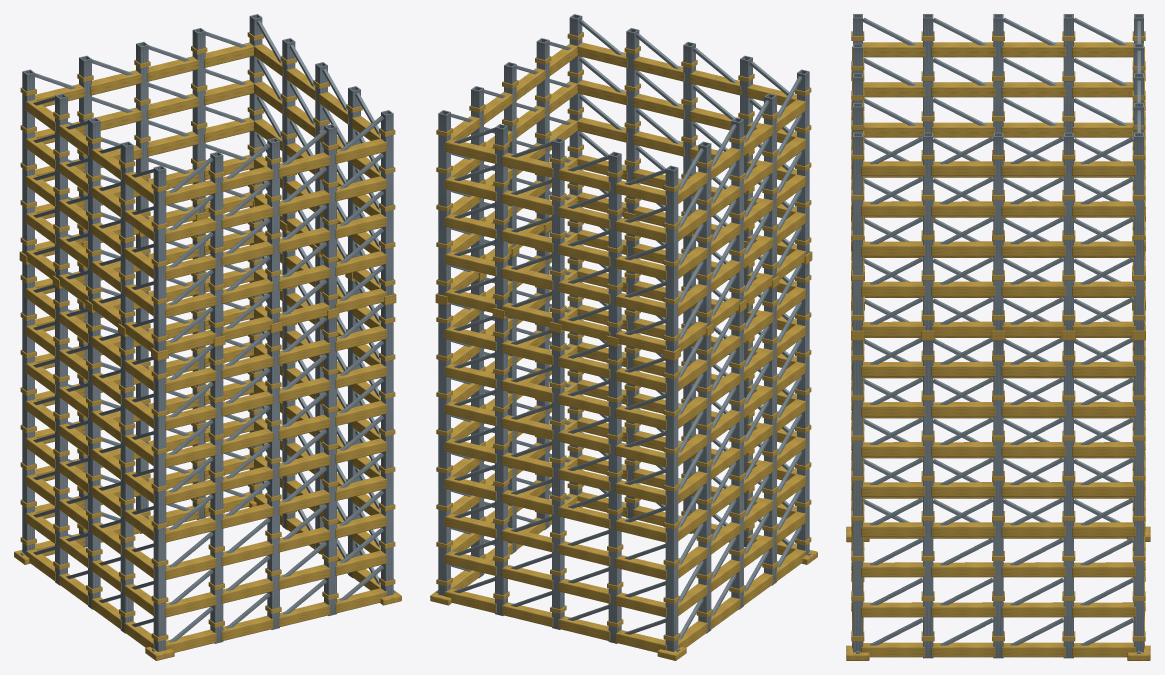
3 renders of one model, left to right at view 1: azimuth 30°, elevation 25°; view 2: azimuth 150°, elevation 25°; view 3: azimuth 270°, elevation 25°, orthographic. The views are drawn at different scales.
Visible parts, largest first — view 1: Tier 0 side 0 post 0, Tier 0 side 0 post 1, Tier 0 side 1 post 0, Tier 0 side 0 post 3, Tier 0 side 0 post 2, Tier 0 side 3 post 3, Tier 0 side 3 post 2, Tier 0 side 3 post 0, Tier 0 side 3 post 1, Tier 1 side 0 post 0, Tier 1 side 0 post 1, Tier 1 side 1 post 0 (+79 smaller); view 2: Tier 0 side 3 post 0, Tier 0 side 2 post 3, Tier 0 side 2 post 0, Tier 0 side 2 post 1, Tier 0 side 2 post 2, Tier 0 side 3 post 1, Tier 0 side 0 post 0, Tier 0 side 3 post 2, Tier 0 side 3 post 3, Tier 1 side 3 post 0, Tier 1 side 2 post 3, Tier 1 side 2 post 0 (+80 smaller); view 3: Tier 0 side 1 post 2, Tier 0 side 1 post 3, Tier 0 side 1 post 1, Tier 0 side 1 post 0, Tier 0 side 2 post 0, Tier 1 side 1 post 2, Tier 1 side 1 post 1, Tier 1 side 1 post 3, Tier 1 side 1 post 0, Tier 1 side 2 post 0, Tier 1 side 3 post 2, Tier 1 side 3 post 3 (+65 smaller).
Boxes of the visible parts, x1,y1,x2,y2 form: Tier 0 side 0 post 0: (153,358,166,651); Tier 0 side 0 post 1: (210,345,223,643); Tier 0 side 1 post 0: (381,303,393,595); Tier 0 side 0 post 3: (324,317,336,615); Tier 0 side 0 post 2: (267,331,279,629); Tier 0 side 3 post 3: (120,334,133,633); Tier 0 side 3 post 2: (88,310,100,609); Tier 0 side 3 post 0: (22,262,34,554); Tier 0 side 3 post 1: (55,286,67,585); Tier 1 side 0 post 0: (153,165,166,351); Tier 1 side 0 post 1: (210,151,223,337); Tier 1 side 1 post 0: (381,110,393,295); Tier 0 side 3 post 0: (665,358,678,651); Tier 0 side 2 post 3: (608,344,621,643); Tier 0 side 2 post 0: (438,303,450,595); Tier 0 side 2 post 1: (495,317,507,615); Tier 0 side 2 post 2: (552,331,564,629); Tier 0 side 3 post 1: (698,334,711,633); Tier 0 side 0 post 0: (797,262,809,554); Tier 0 side 3 post 2: (731,310,743,609); Tier 0 side 3 post 3: (764,286,776,585); Tier 1 side 3 post 0: (665,165,678,351); Tier 1 side 2 post 3: (608,151,621,337); Tier 1 side 2 post 0: (438,110,450,295); Tier 0 side 1 post 2: (993,340,1003,658); Tier 0 side 1 post 3: (1063,340,1073,658); Tier 0 side 1 post 1: (923,340,933,658); Tier 0 side 1 post 0: (853,340,862,652); Tier 0 side 2 post 0: (1134,340,1143,652); Tier 1 side 1 post 2: (993,132,1003,330); Tier 1 side 1 post 1: (923,132,933,330); Tier 1 side 1 post 3: (1063,132,1073,330); Tier 1 side 1 post 0: (853,132,862,330); Tier 1 side 2 post 0: (1134,132,1143,330); Tier 1 side 3 post 2: (993,14,1003,132); Tier 1 side 3 post 3: (923,14,933,132).
Bounding box in the file's own units: 1.95 × 3.68 × 1.95.
2 materials, 2 textured.
